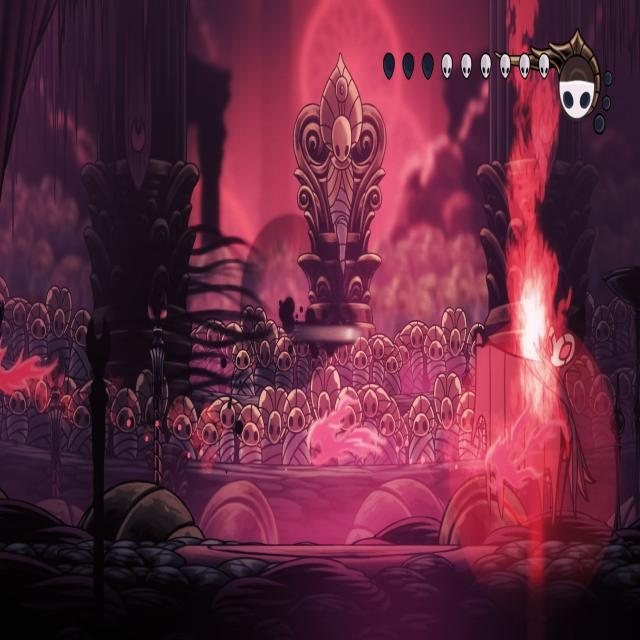Fire Bat: (309, 394, 382, 468), (0, 315, 56, 401)
Open Cloak: (470, 284, 594, 540)
